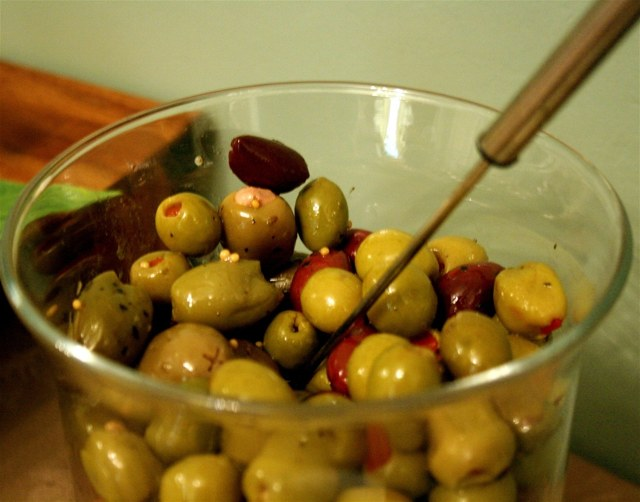tomato: (435, 263, 504, 329), (324, 319, 377, 398), (288, 248, 351, 307), (363, 421, 395, 473), (338, 228, 372, 268), (408, 333, 441, 374)
